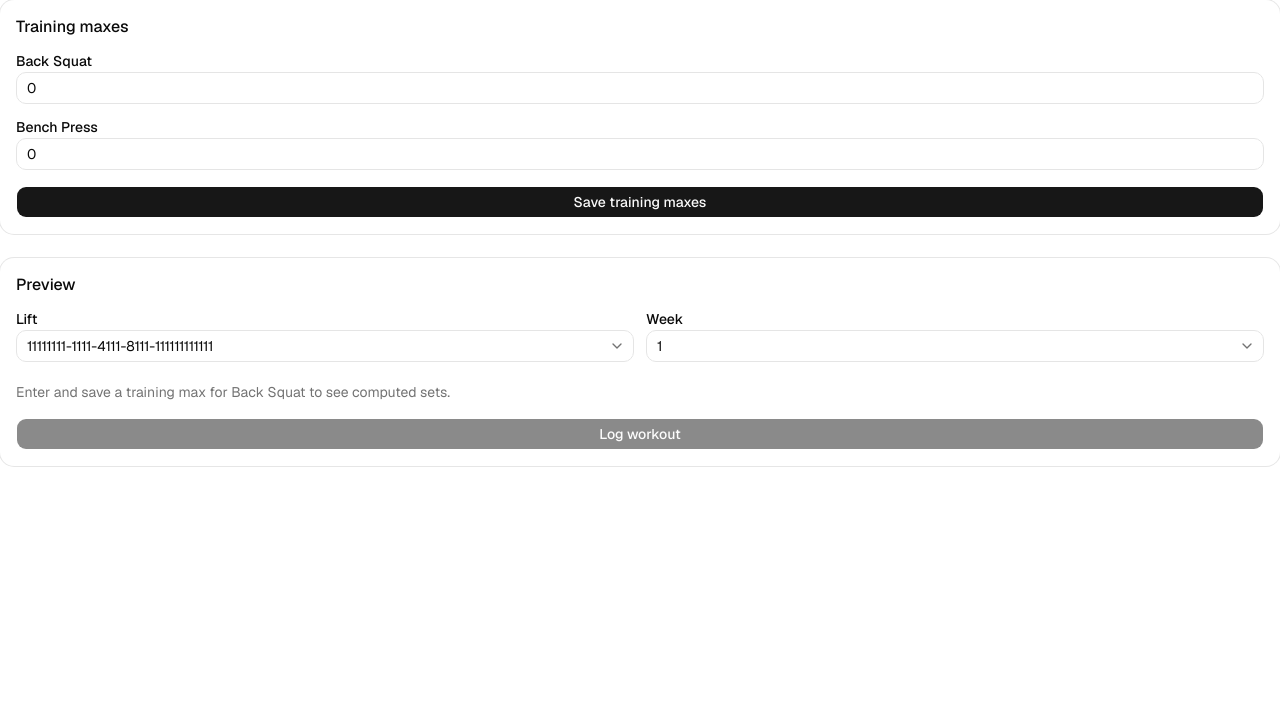
Test: FiveThreeOneForm › saves training maxes only for lifts with a non-zero value, then refreshes
This screenshot has width=1280, height=720.
Replace the text in the number field labelled "Back Squat" with "200": {"x": 640, "y": 88} [16,72,1264,104]
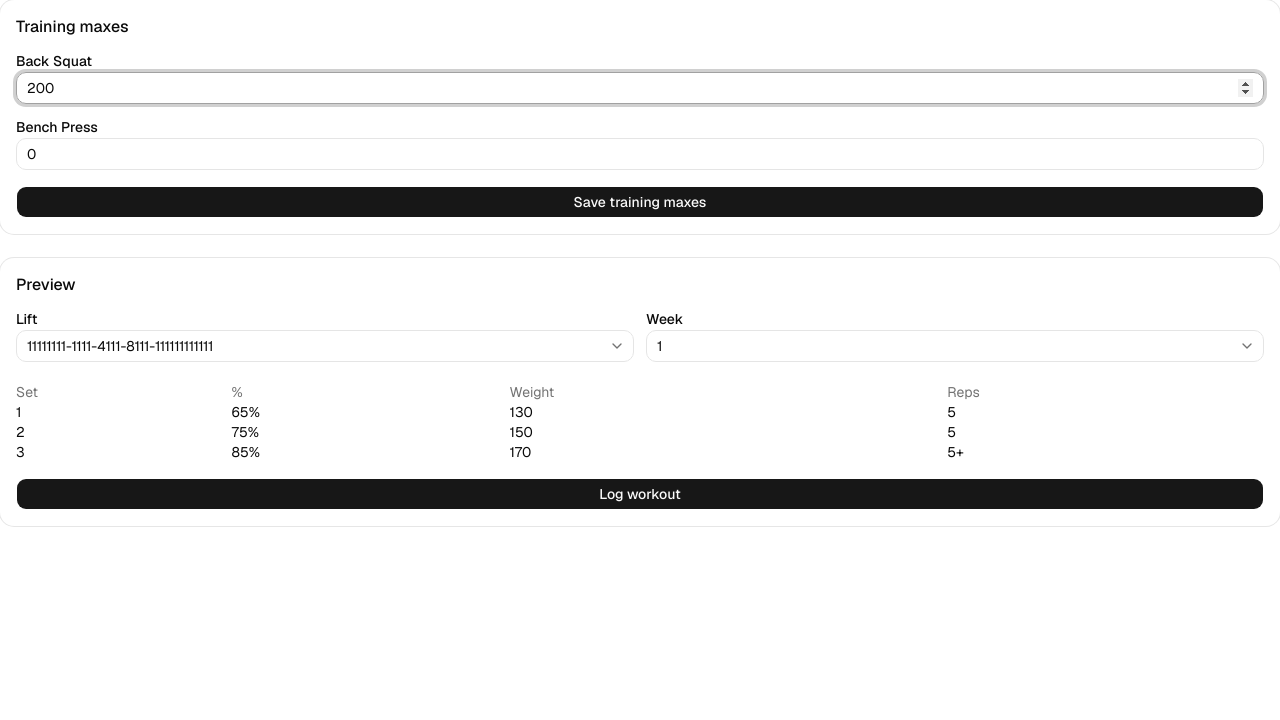
Click the button "Save training maxes": {"x": 640, "y": 202} [16,186,1264,218]
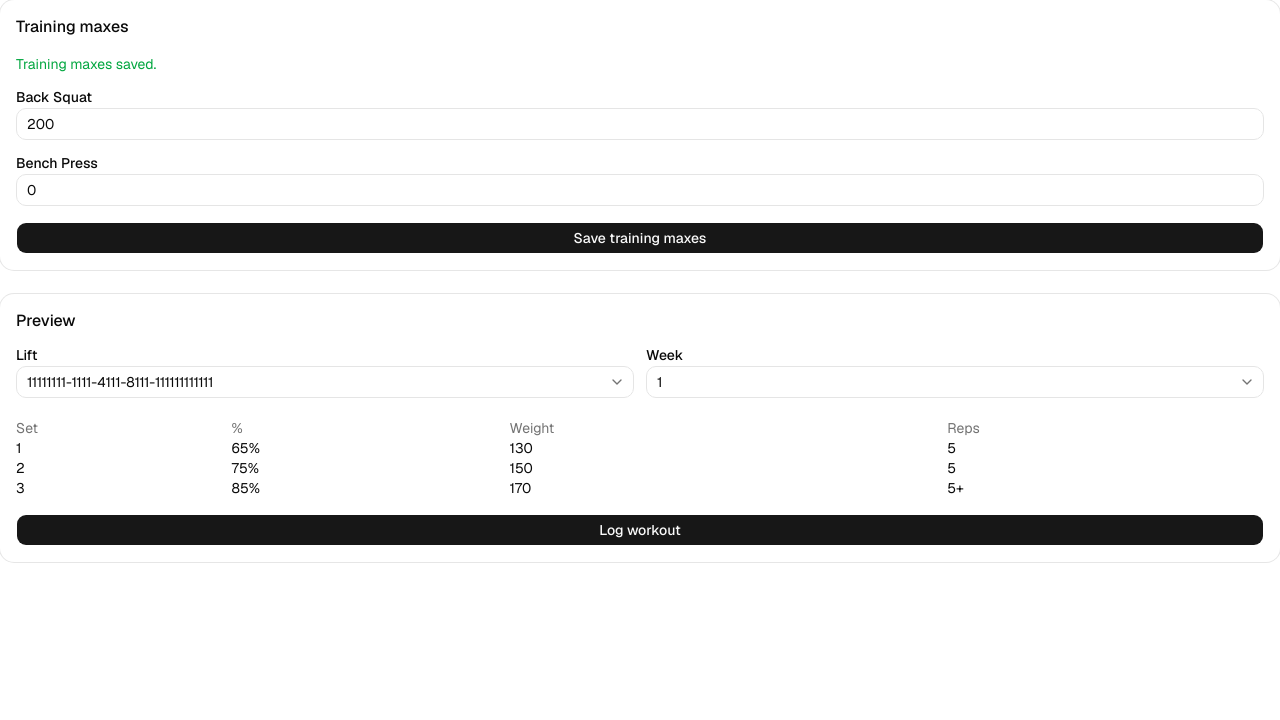
Expected: the message shows "Training maxes saved", [16,55,156,73]
